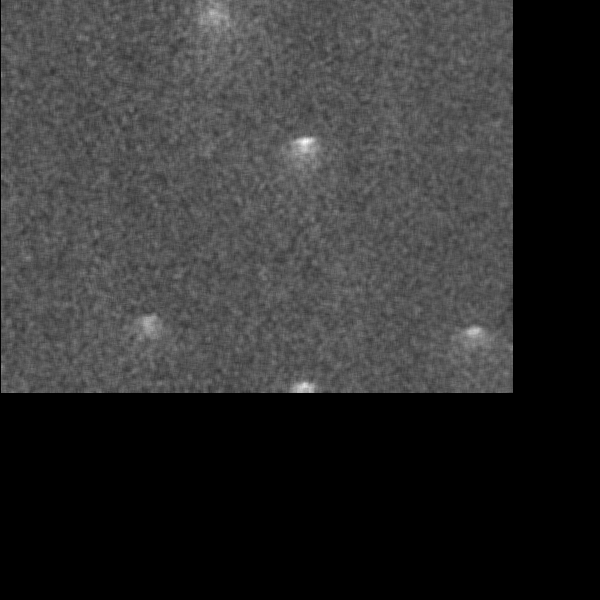spark: (35, 104, 61, 146)
